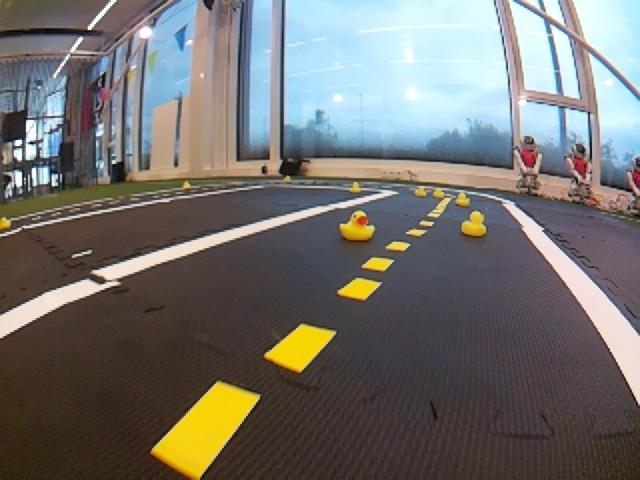Duckies: (339, 209, 376, 240), (461, 210, 488, 237), (455, 192, 471, 207), (0, 216, 10, 231), (432, 188, 444, 198), (414, 187, 427, 196), (350, 182, 360, 192), (182, 181, 190, 188), (283, 176, 291, 181)
